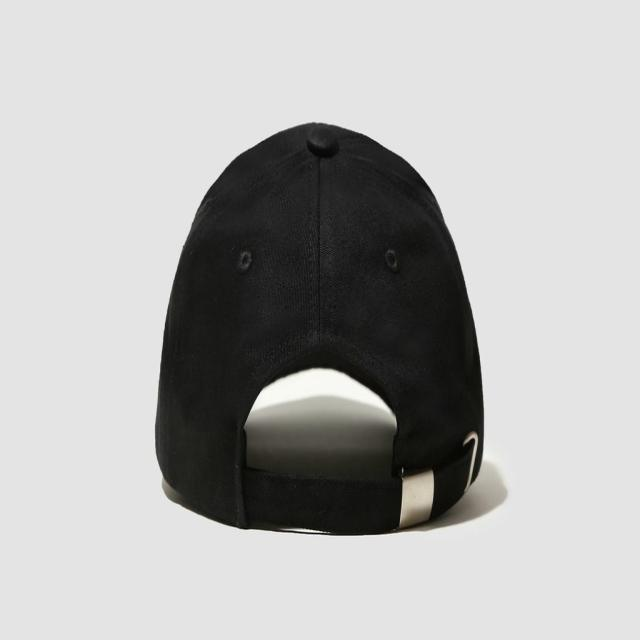no_helmet: (146, 82, 496, 540)
